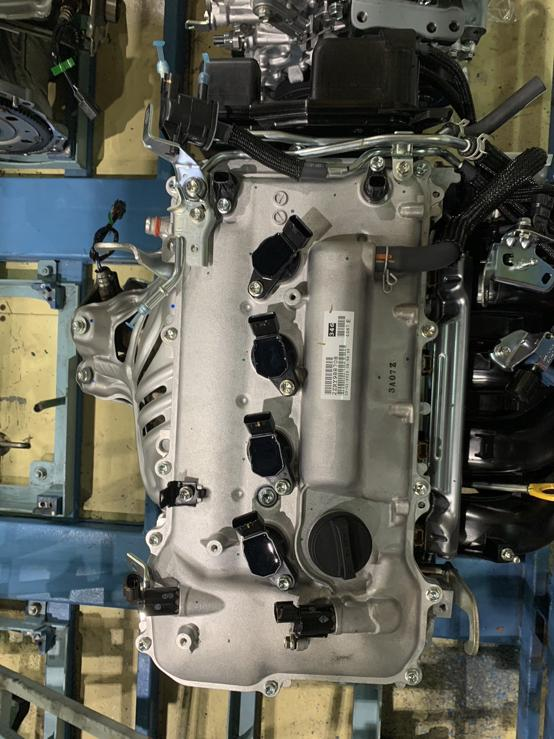engine_type1: (114, 94, 523, 693)
engine_type1_FP1: (308, 510, 373, 579)
engine_type1_FP2: (298, 229, 378, 487)
engine_type1_FP3: (271, 595, 403, 646)
